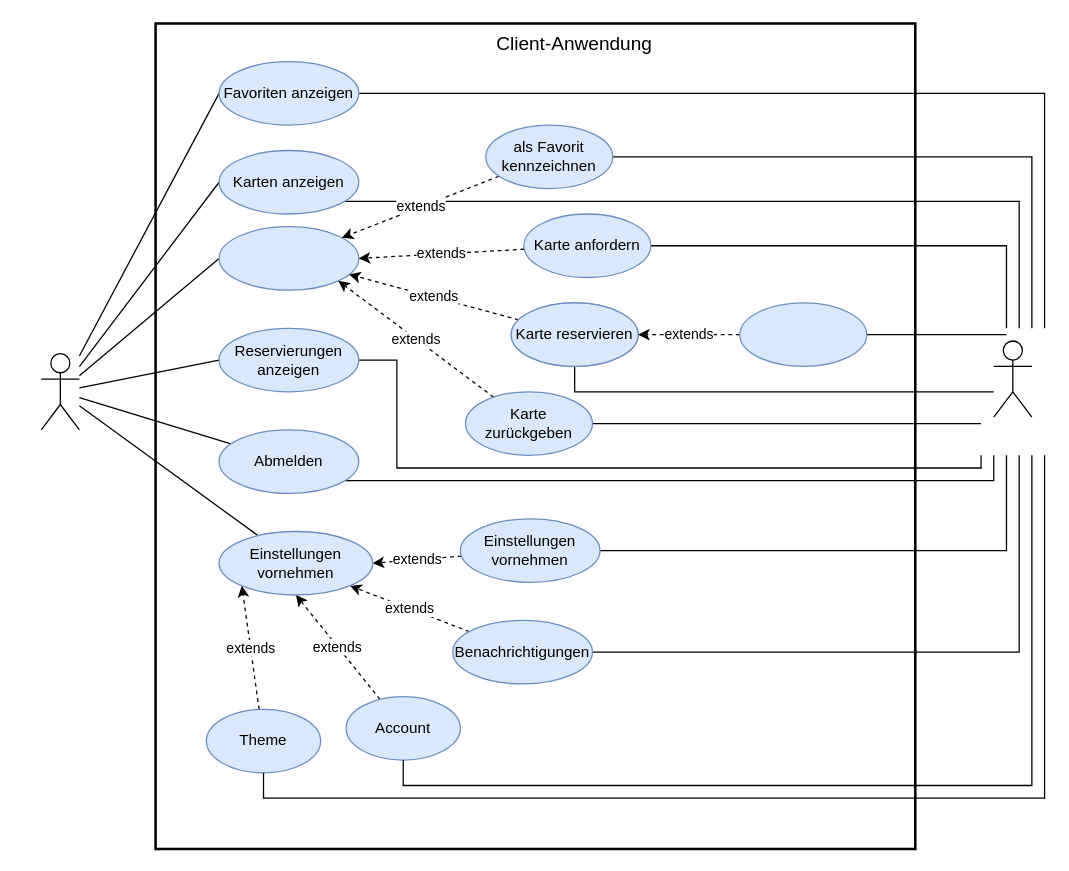
Image size: 1069x871. Some labels were removed from this diagram. The shapes that lost their labels are listed below. From the top down, each one's centre as x and y in pixels, then its label:
[288,257]: Karte vewalten
[803,334]: Reservierung löschen
[59,391]: Registrierte Lehrkraft
[1012,378]: REST-API
